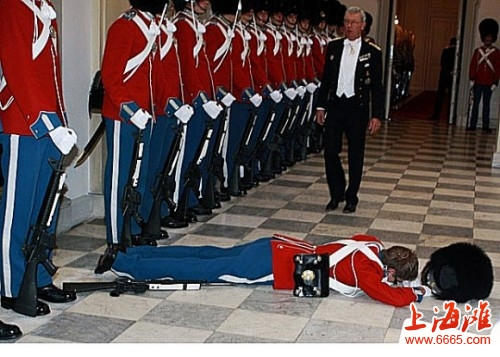10+: (1, 1, 497, 332)
down: (89, 215, 434, 310)
